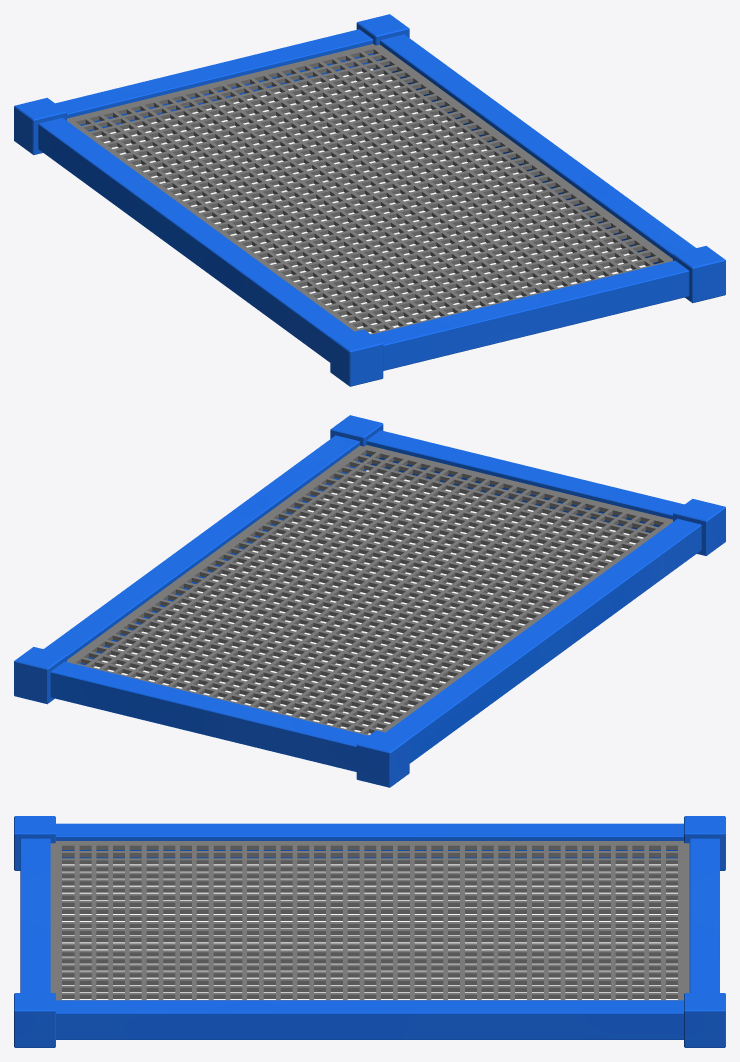
The model's file is DoubleBridge1SegmentBlue.fbx.
The picture shows the model from 3 angles, top to bottom: view 1: azimuth 30°, elevation 25°; view 2: azimuth 150°, elevation 25°; view 3: azimuth 270°, elevation 25°; orthographic projection. The views are drawn at different scales.
Parts seen in each view (by area): view 1: Grate.001, Cube.001; view 2: Grate.001, Cube.001; view 3: Grate.001, Cube.001.
Part boxes in pixels (box(x1,y1,x2,y2)): Grate.001: box(67, 44, 672, 334); Cube.001: box(14, 14, 725, 386); Grate.001: box(67, 445, 672, 735); Cube.001: box(14, 415, 725, 787); Grate.001: box(50, 841, 689, 1000); Cube.001: box(14, 816, 725, 1047).
Bounding box in the file's own units: 11 × 1 × 17.
